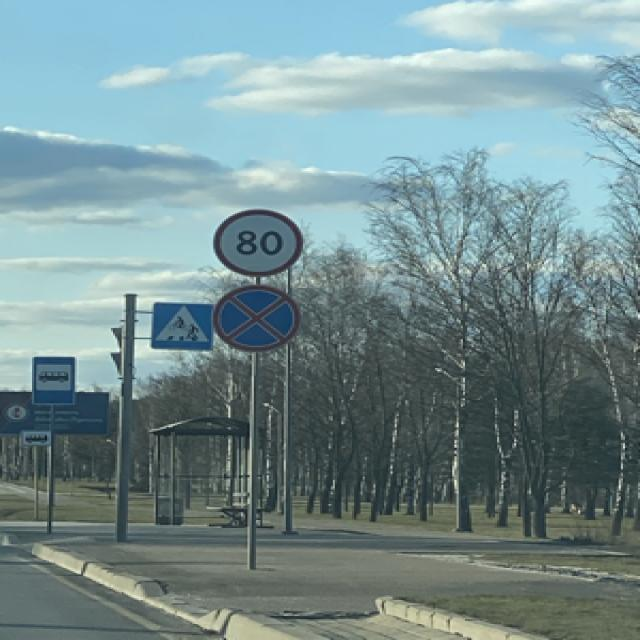crosswalk: (148, 299, 214, 347)
speedlimit: (209, 208, 299, 277)
